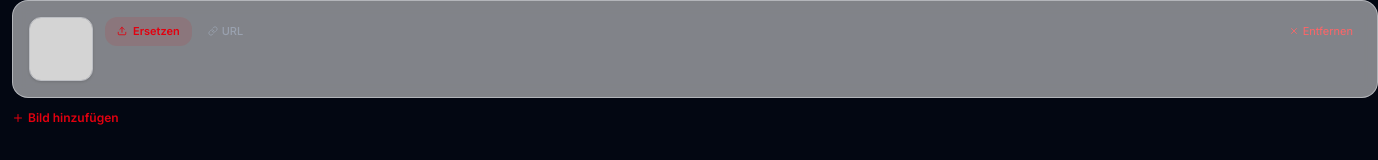
ImageListField — move, URL toggle, add › URL toggle shows/hides URL input
Click the button "URL": coordinates (225, 31) [200, 17, 251, 46]
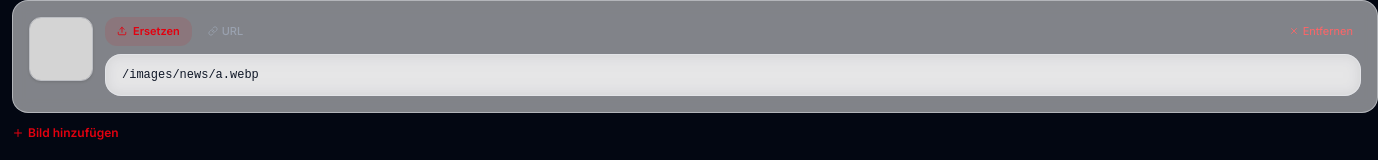
Expected: the field is shown, [105, 54, 1361, 96]
